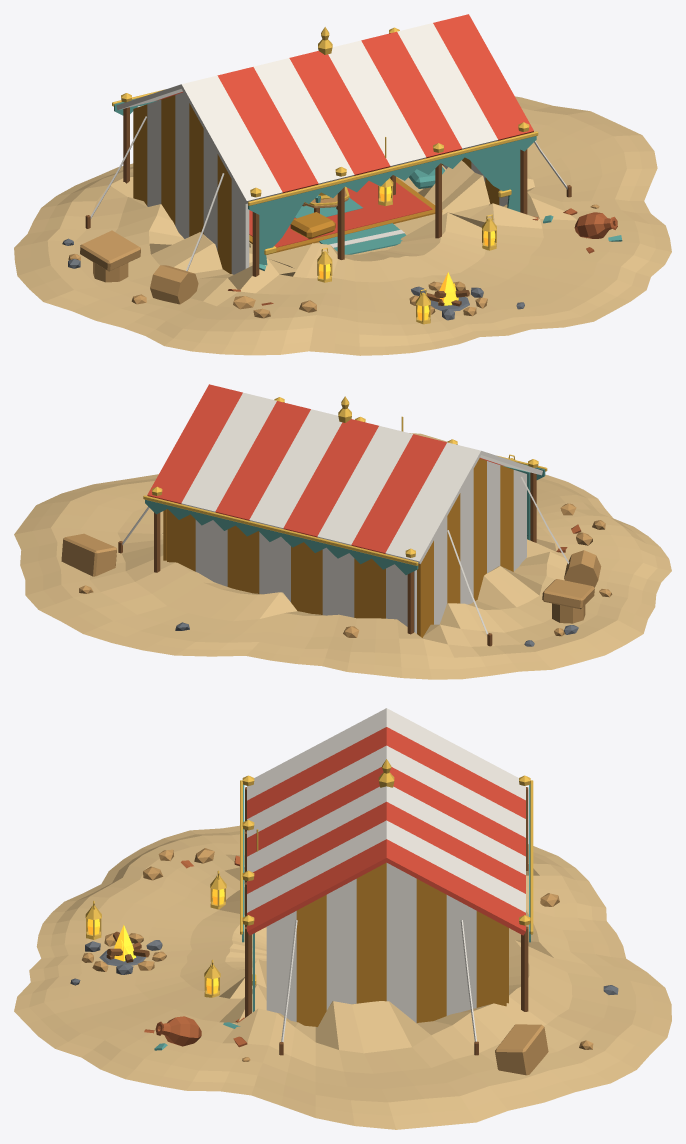
The model's file is desert-tent-camp.glb.
3 renders of one model, top to bottom at view 1: azimuth 30°, elevation 25°; view 2: azimuth 150°, elevation 25°; view 3: azimuth 270°, elevation 25°, orthographic. The views are drawn at different scales.
Visible parts, largest first — view 1: SandDunes, Tent_Roof, Tent_Wall_L, Tent, Rug_Main, Tent_Valance_Front, DoorFlap_R, Ruin_Capital, Tent_Trim_Front, Ruin_ColumnDrum_0, DoorFlap_L, Campfire (+5 smaller); view 2: SandDunes, Tent_Roof, Tent_Wall_Back, Tent_Wall_L, Tent, Tent_Valance_Back, Ruin_Block, Tent_Trim_Back, Ruin_Capital, Ruin_ColumnDrum_0, Ruin_ColumnDrum_1; view 3: SandDunes, Tent_Roof, Tent_Wall_R, Tent, Ruin_Block, Campfire, Amphora_Broken.
Boxes of the visible parts, x1,y1,x2,y2 form: SandDunes: [14, 96, 671, 355]; Tent_Roof: [116, 14, 533, 203]; Tent_Wall_L: [133, 92, 249, 274]; Tent: [85, 27, 571, 276]; Rug_Main: [249, 181, 432, 247]; Tent_Valance_Front: [248, 136, 536, 215]; DoorFlap_R: [470, 145, 520, 211]; Ruin_Capital: [80, 230, 140, 271]; Tent_Trim_Front: [248, 131, 538, 205]; Ruin_ColumnDrum_0: [150, 265, 198, 304]; DoorFlap_L: [259, 198, 304, 265]; Campfire: [409, 281, 487, 320]; SandDunes: [14, 433, 671, 679]; Tent_Roof: [147, 384, 542, 563]; Tent_Wall_Back: [167, 509, 416, 633]; Tent_Wall_L: [417, 458, 526, 637]; Tent: [118, 397, 569, 646]; Tent_Valance_Back: [145, 499, 418, 574]; Ruin_Block: [61, 533, 116, 576]; Tent_Trim_Back: [143, 495, 418, 565]; Ruin_Capital: [542, 579, 594, 609]; Ruin_ColumnDrum_0: [564, 550, 601, 587]; Ruin_ColumnDrum_1: [552, 603, 585, 623]; SandDunes: [14, 825, 671, 1129]; Tent_Roof: [247, 708, 525, 935]; Tent_Wall_R: [266, 862, 506, 1026]; Tent: [242, 775, 530, 1055]; Ruin_Block: [495, 1024, 548, 1075]; Campfire: [82, 931, 166, 974]; Amphora_Broken: [155, 1016, 201, 1046].
Bounding box in the file's own units: 50.95 × 14.95 × 43.82.
